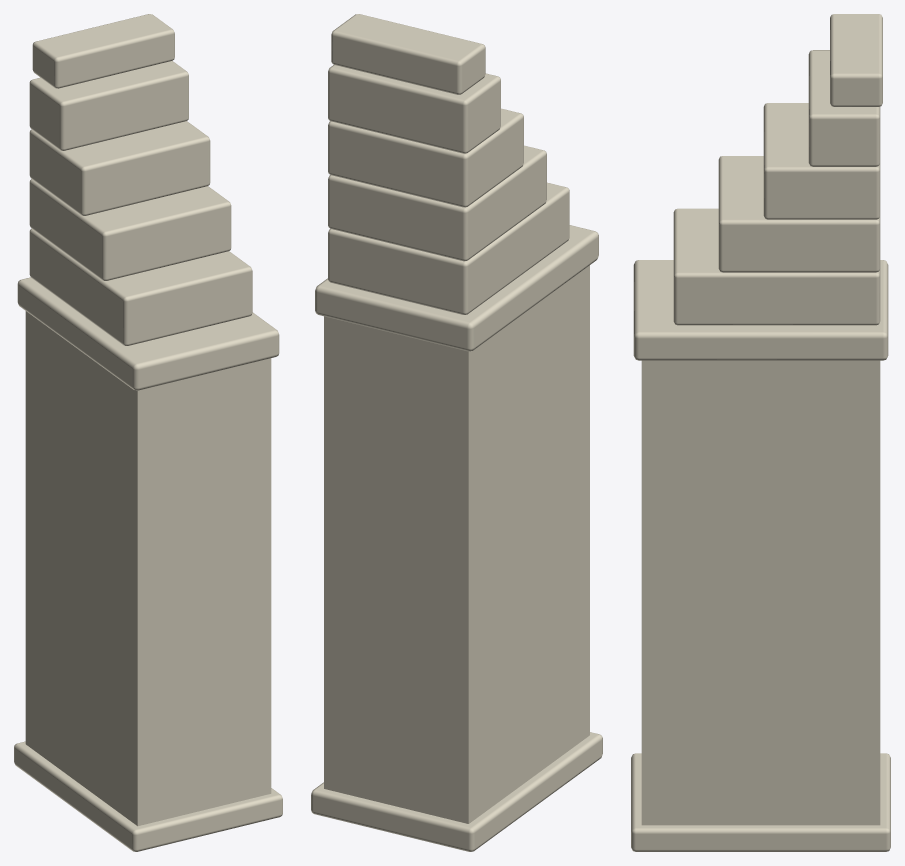
Rendered from monastery-buttress.glb.
The picture shows the model from 3 angles, left to right: view 1: azimuth 30°, elevation 25°; view 2: azimuth 150°, elevation 25°; view 3: azimuth 270°, elevation 25°; orthographic projection. The views are drawn at different scales.
Parts seen in each view (by area): view 1: monastery-buttress; view 2: monastery-buttress; view 3: monastery-buttress.
Part boxes in pixels (bbox=[...]): monastery-buttress: bbox=[14, 14, 282, 851]; monastery-buttress: bbox=[311, 14, 602, 851]; monastery-buttress: bbox=[631, 14, 890, 851].
Bounding box in the file's own units: 0.6999 × 3.21 × 0.9801.
